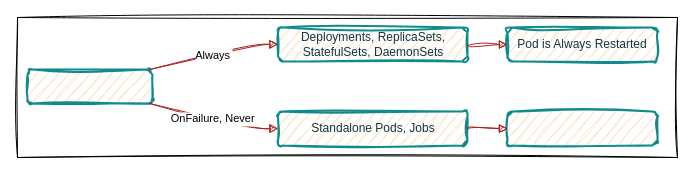
Image size: 695x175. Some labels were removed from this diagram. Each missing label, with the box of its shape:
Pod Restart Depends on Policy and Exit Status: (506, 110, 658, 146)
Restart Policies: (26, 68, 153, 104)
